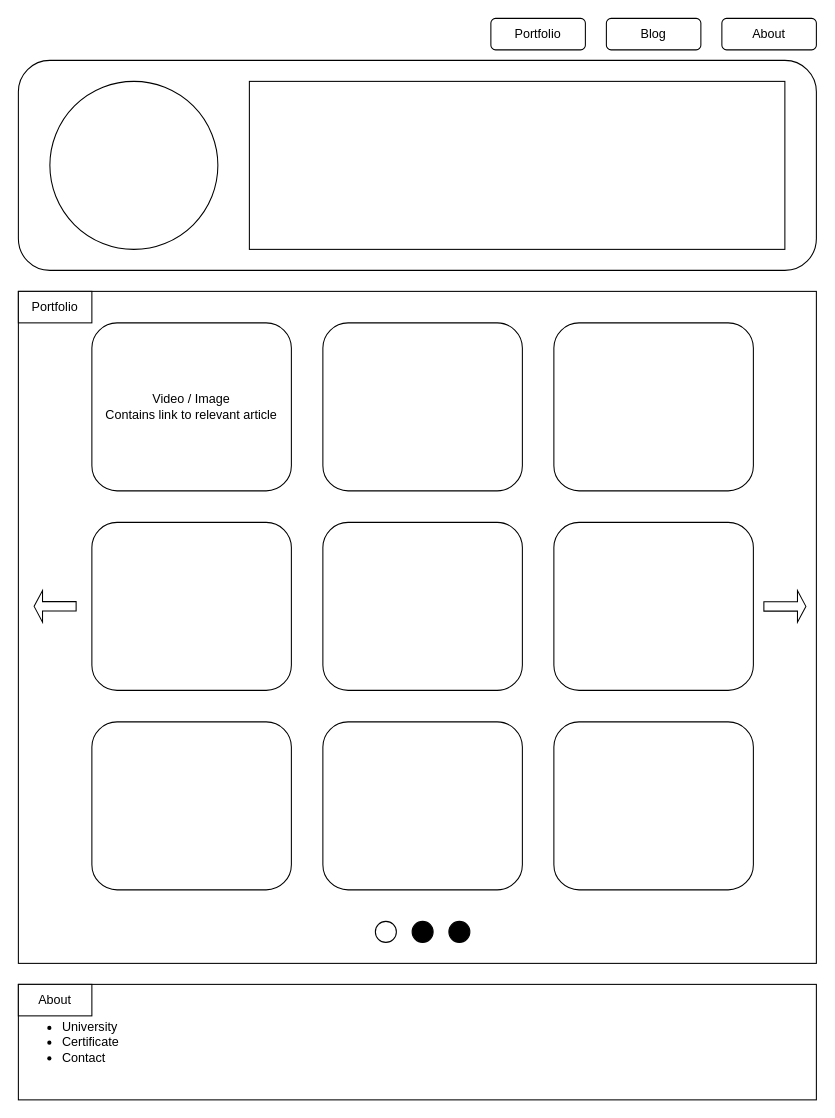
Some shapes in this 835 by 1118 pixel diagram are drawn without their labels. The shapes that lost their labels are listed below. From the top down, each one's centre as x and y in pixels, then its label:
At point (133, 164): "Avatar".
At point (516, 164): "Introduction".
